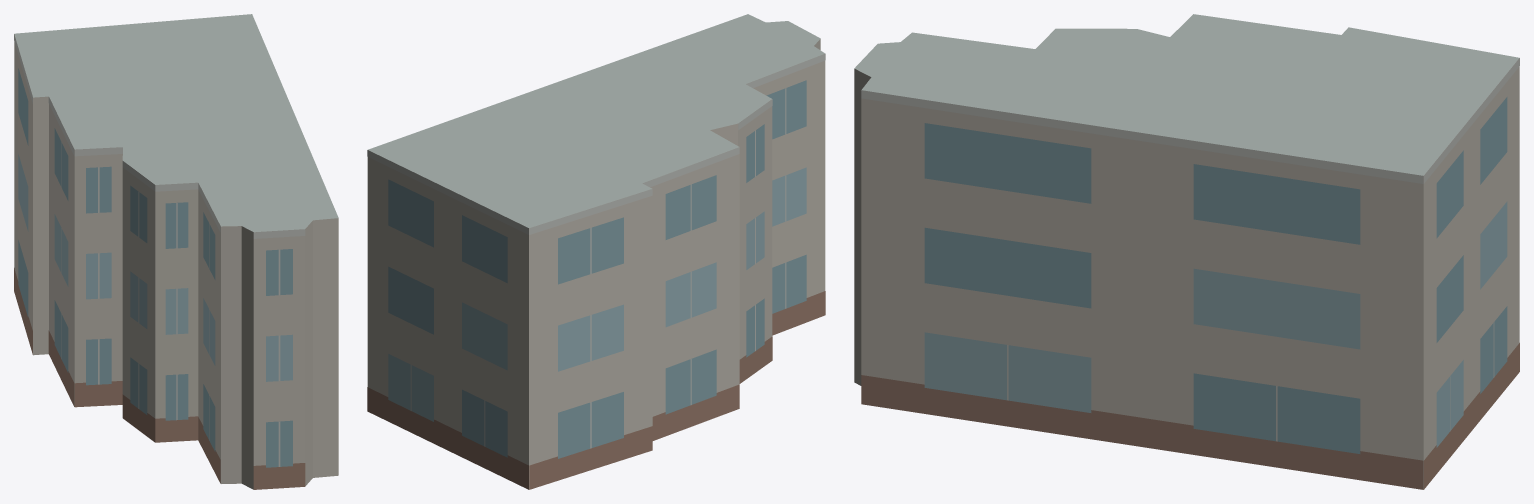
The model's file is survey-upis-32500791.glb.
The picture shows the model from 3 angles, left to right: view 1: azimuth 30°, elevation 25°; view 2: azimuth 150°, elevation 25°; view 3: azimuth 270°, elevation 25°; orthographic projection. The views are drawn at different scales.
Parts seen in each view (by area): view 1: survey-upis-32500791.tmp; view 2: survey-upis-32500791.tmp; view 3: survey-upis-32500791.tmp.
Part boxes in pixels (x1,y1,x2,y2): survey-upis-32500791.tmp: [14, 14, 338, 489]; survey-upis-32500791.tmp: [367, 14, 825, 489]; survey-upis-32500791.tmp: [854, 14, 1519, 489].
Bounding box in the file's own units: 10.29 × 9.3 × 17.87.
